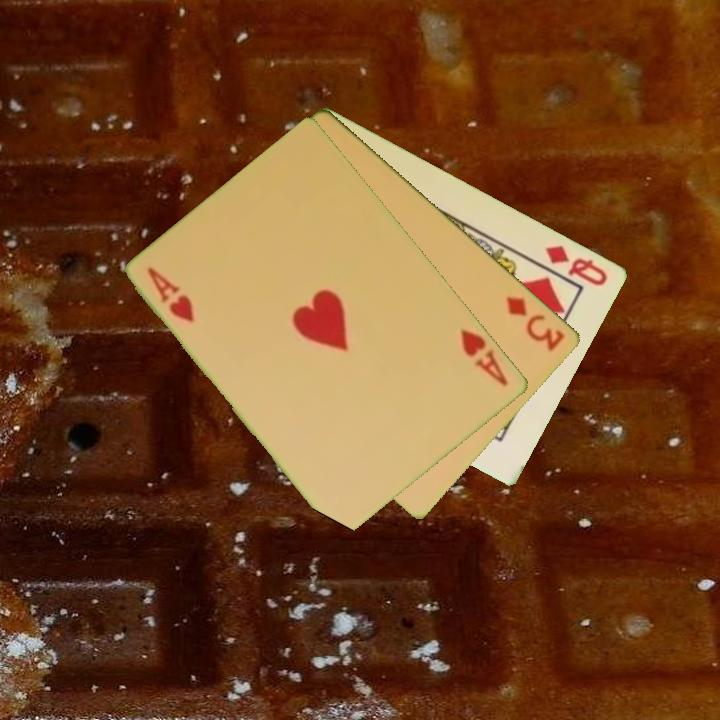3d: (503, 292, 568, 355)
Ah: (457, 325, 512, 389), (144, 263, 198, 326)
Qd: (542, 241, 612, 289)
